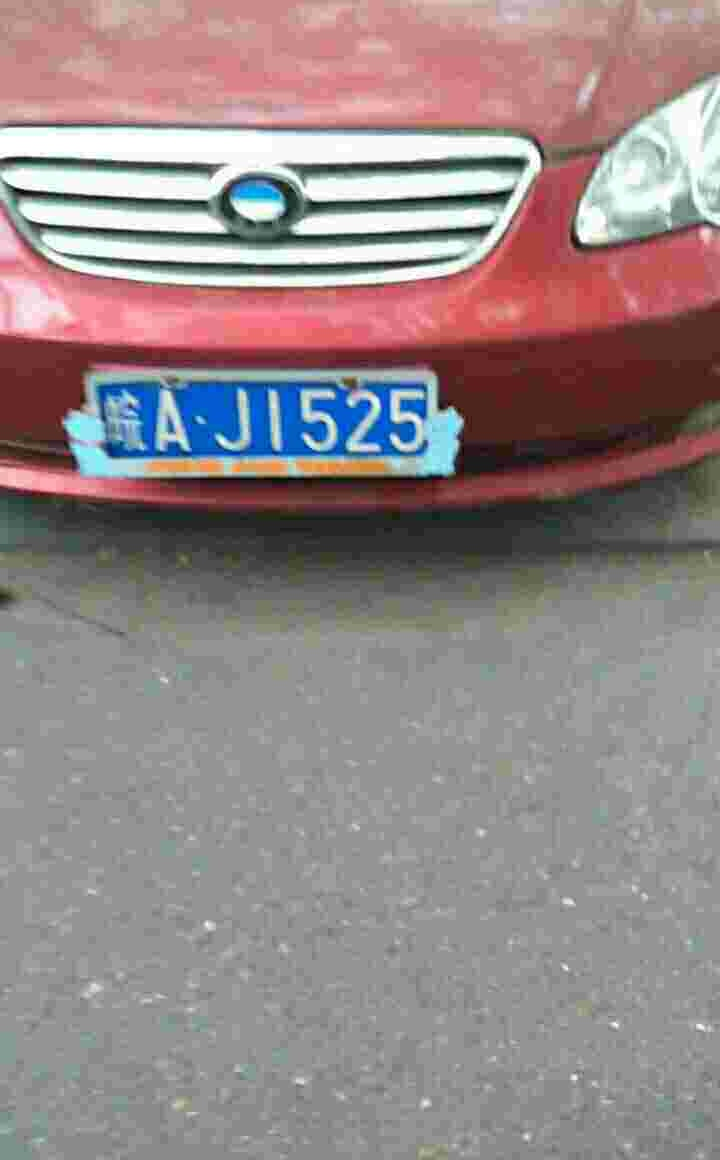license_plate: (85, 379, 443, 458)
